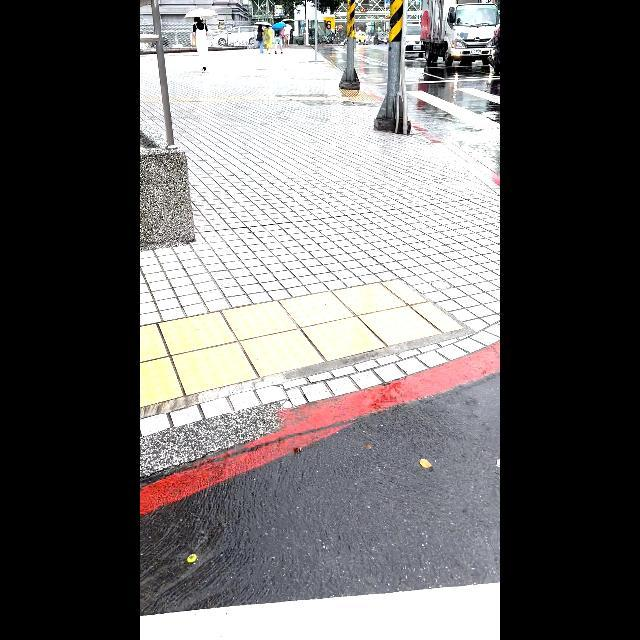sidewalk: (141, 582, 500, 640)
